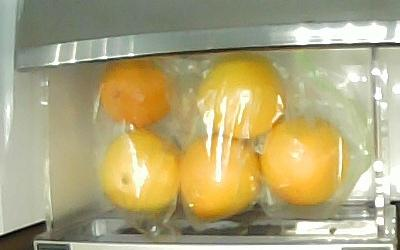grapefruit_vinyl: (259, 114, 350, 205), (193, 53, 287, 139), (179, 132, 262, 219), (100, 127, 181, 210), (96, 61, 172, 126)
